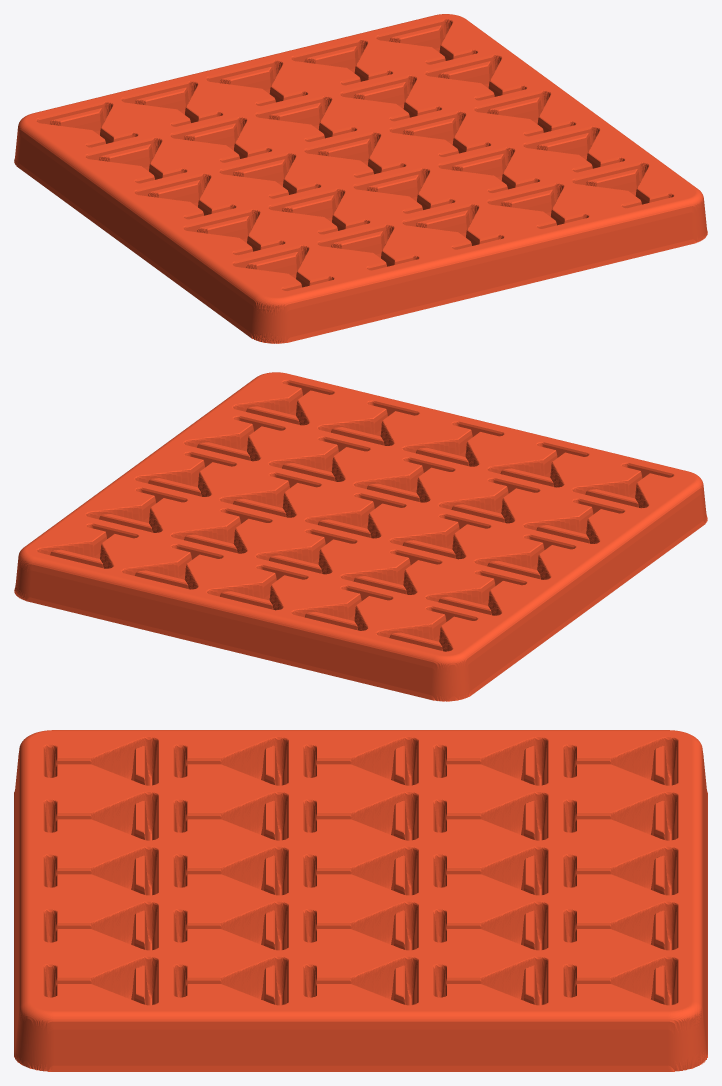
The model's file is mold.glb.
The picture shows the model from 3 angles, top to bottom: view 1: azimuth 30°, elevation 25°; view 2: azimuth 150°, elevation 25°; view 3: azimuth 270°, elevation 25°; orthographic projection. The views are drawn at different scales.
Visible parts, largest first — view 1: geometry_0; view 2: geometry_0; view 3: geometry_0.
Part boxes in pixels (box(x1,y1,x2,y2)): geometry_0: box(14, 14, 707, 343); geometry_0: box(14, 372, 707, 701); geometry_0: box(14, 730, 707, 1071).
Size of the model in its own units: 0.1584 by 0.0136 by 0.1584.
